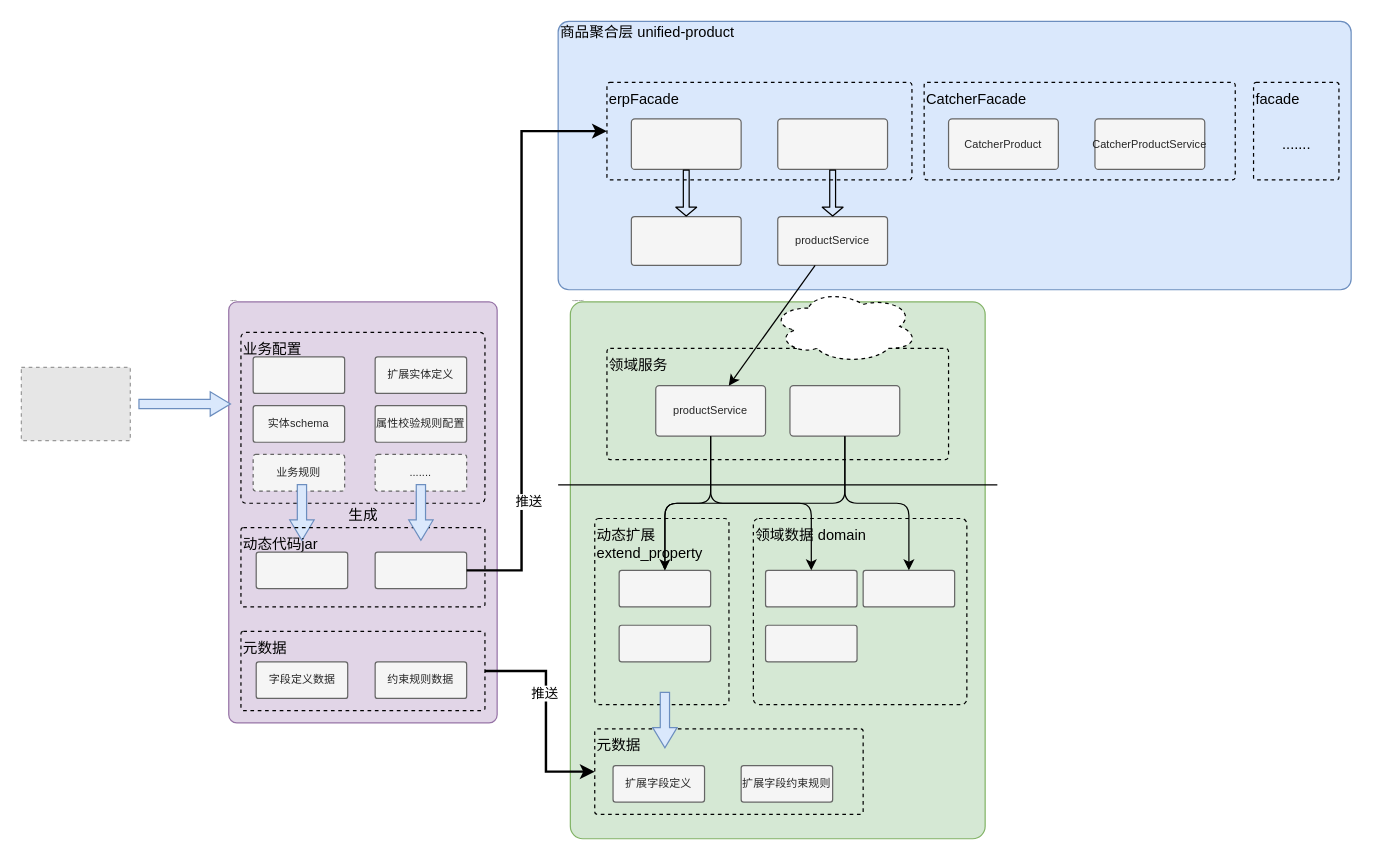
Some shapes in this 1373 by 860 pixel diagram are drawn without their labels. Grey dashed boxes stand in for pictures. Each missing label, with the centre of its shape:
ErpProduct: the point at 685,143
ErpProductService: the point at 832,143
ExtendProduct: the point at 844,326
k-v: the point at 664,588
Product: the point at 685,240
sku: the point at 908,588
SkuService: the point at 844,410
spu: the point at 810,643
业务身份定义: the point at 298,374
业务身份隔离: the point at 664,643
商品: the point at 810,588
扩展业务实体: the point at 301,570
接口定义: the point at 420,570
配置: the point at 184,403
